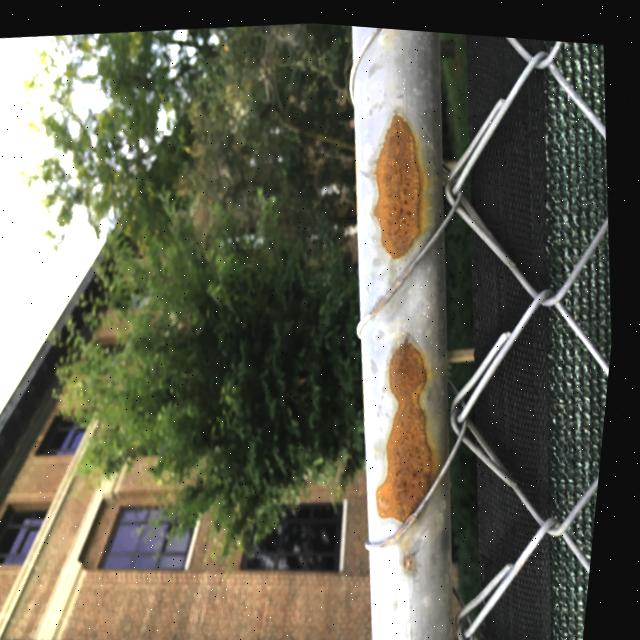corrosion: (364, 330, 458, 521), (361, 103, 441, 257)
